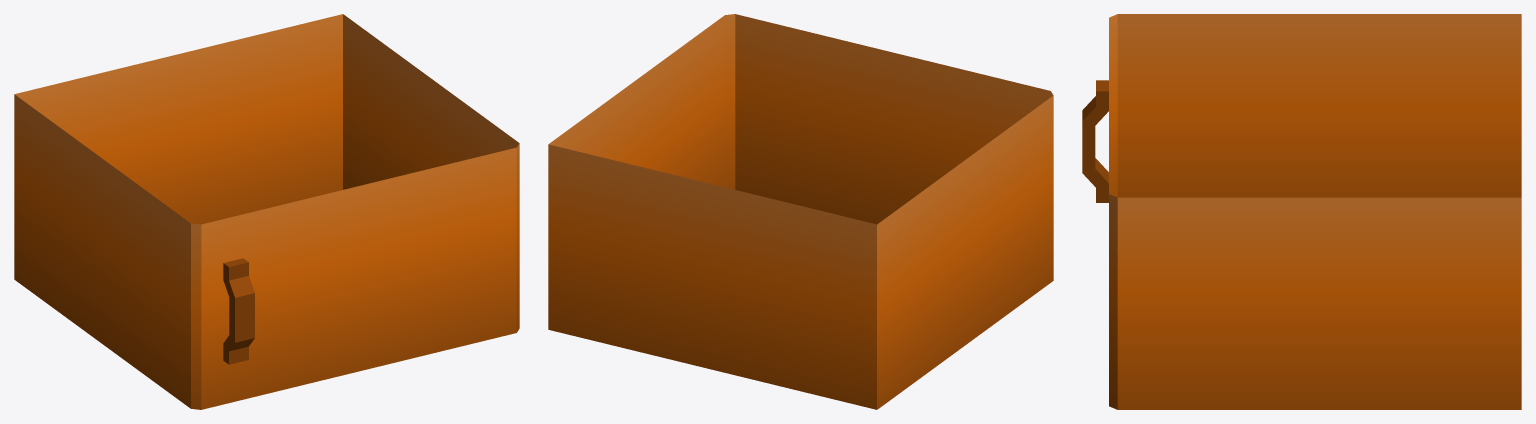
Rendered from Counter_01_v04_C03.fbx.
The picture shows the model from 3 angles, left to right: view 1: azimuth 30°, elevation 25°; view 2: azimuth 150°, elevation 25°; view 3: azimuth 270°, elevation 25°; orthographic projection. The views are drawn at different scales.
Visible parts, largest first — view 1: Counter_01_v04_C03; view 2: Counter_01_v04_C03; view 3: Counter_01_v04_C03.
Boxes of the visible parts, bbox=[...] form: Counter_01_v04_C03: bbox=[14, 14, 519, 409]; Counter_01_v04_C03: bbox=[548, 14, 1053, 409]; Counter_01_v04_C03: bbox=[1082, 14, 1521, 409].
Size of the model in its own units: 100 by 53.91 by 101.
